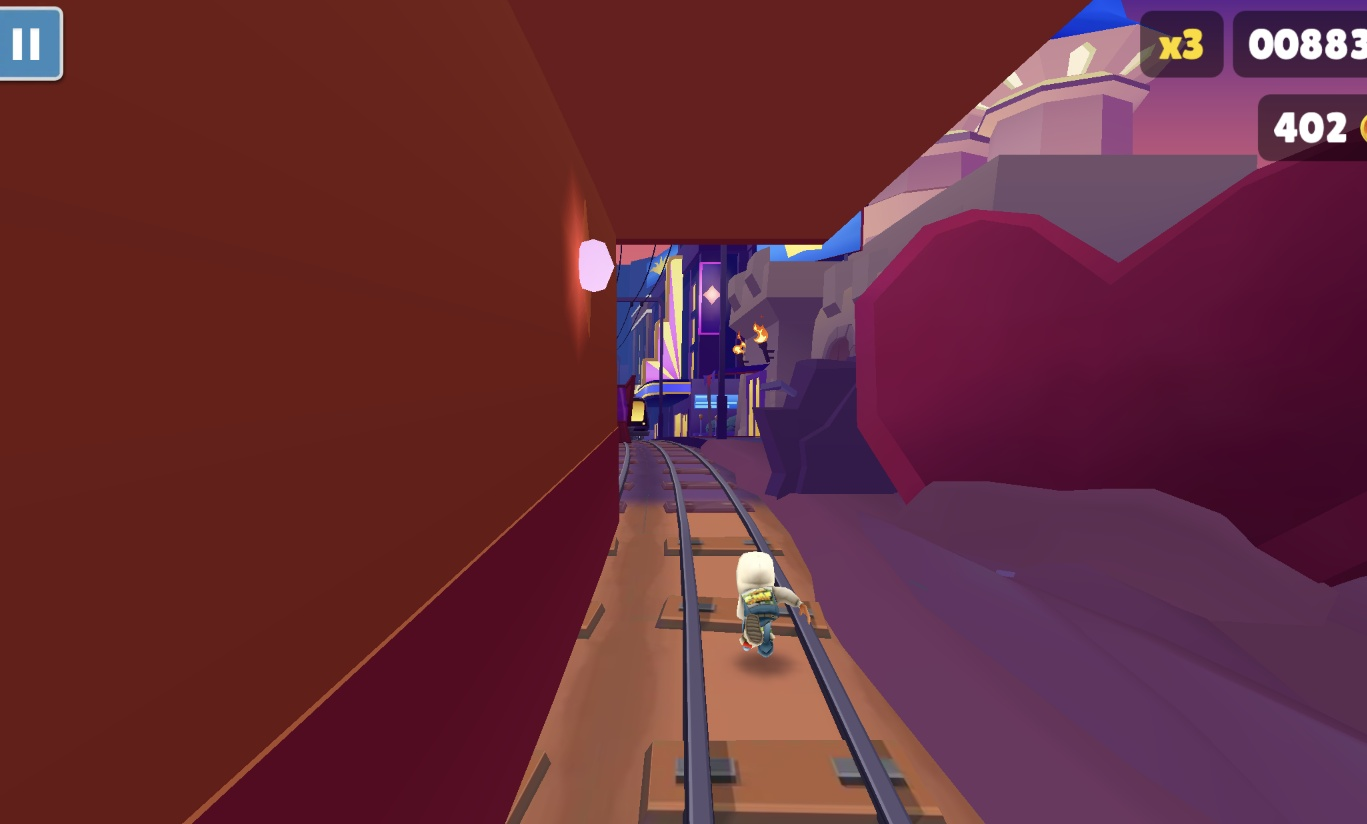pillar: (0, 0, 619, 824)
train: (629, 391, 650, 438)
